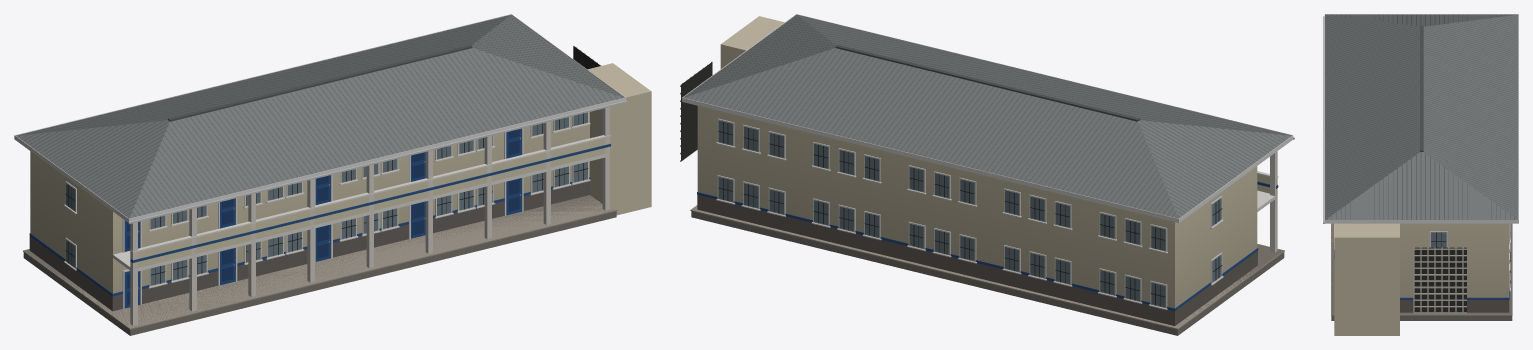
File: ns_school2.glb
3 renders of one model, left to right at view 1: azimuth 30°, elevation 25°; view 2: azimuth 150°, elevation 25°; view 3: azimuth 270°, elevation 25°, orthographic. The views are drawn at different scales.
Parts seen in each view (by area): view 1: ns_school2; view 2: ns_school2; view 3: ns_school2.
Boxes of the visible parts, left/top/right/bottom form: ns_school2: left=14, top=14, right=651, bottom=335; ns_school2: left=680, top=14, right=1294, bottom=335; ns_school2: left=1323, top=14, right=1518, bottom=335.
Bounding box in the file's own units: 33.33 × 9.32 × 12.56.
